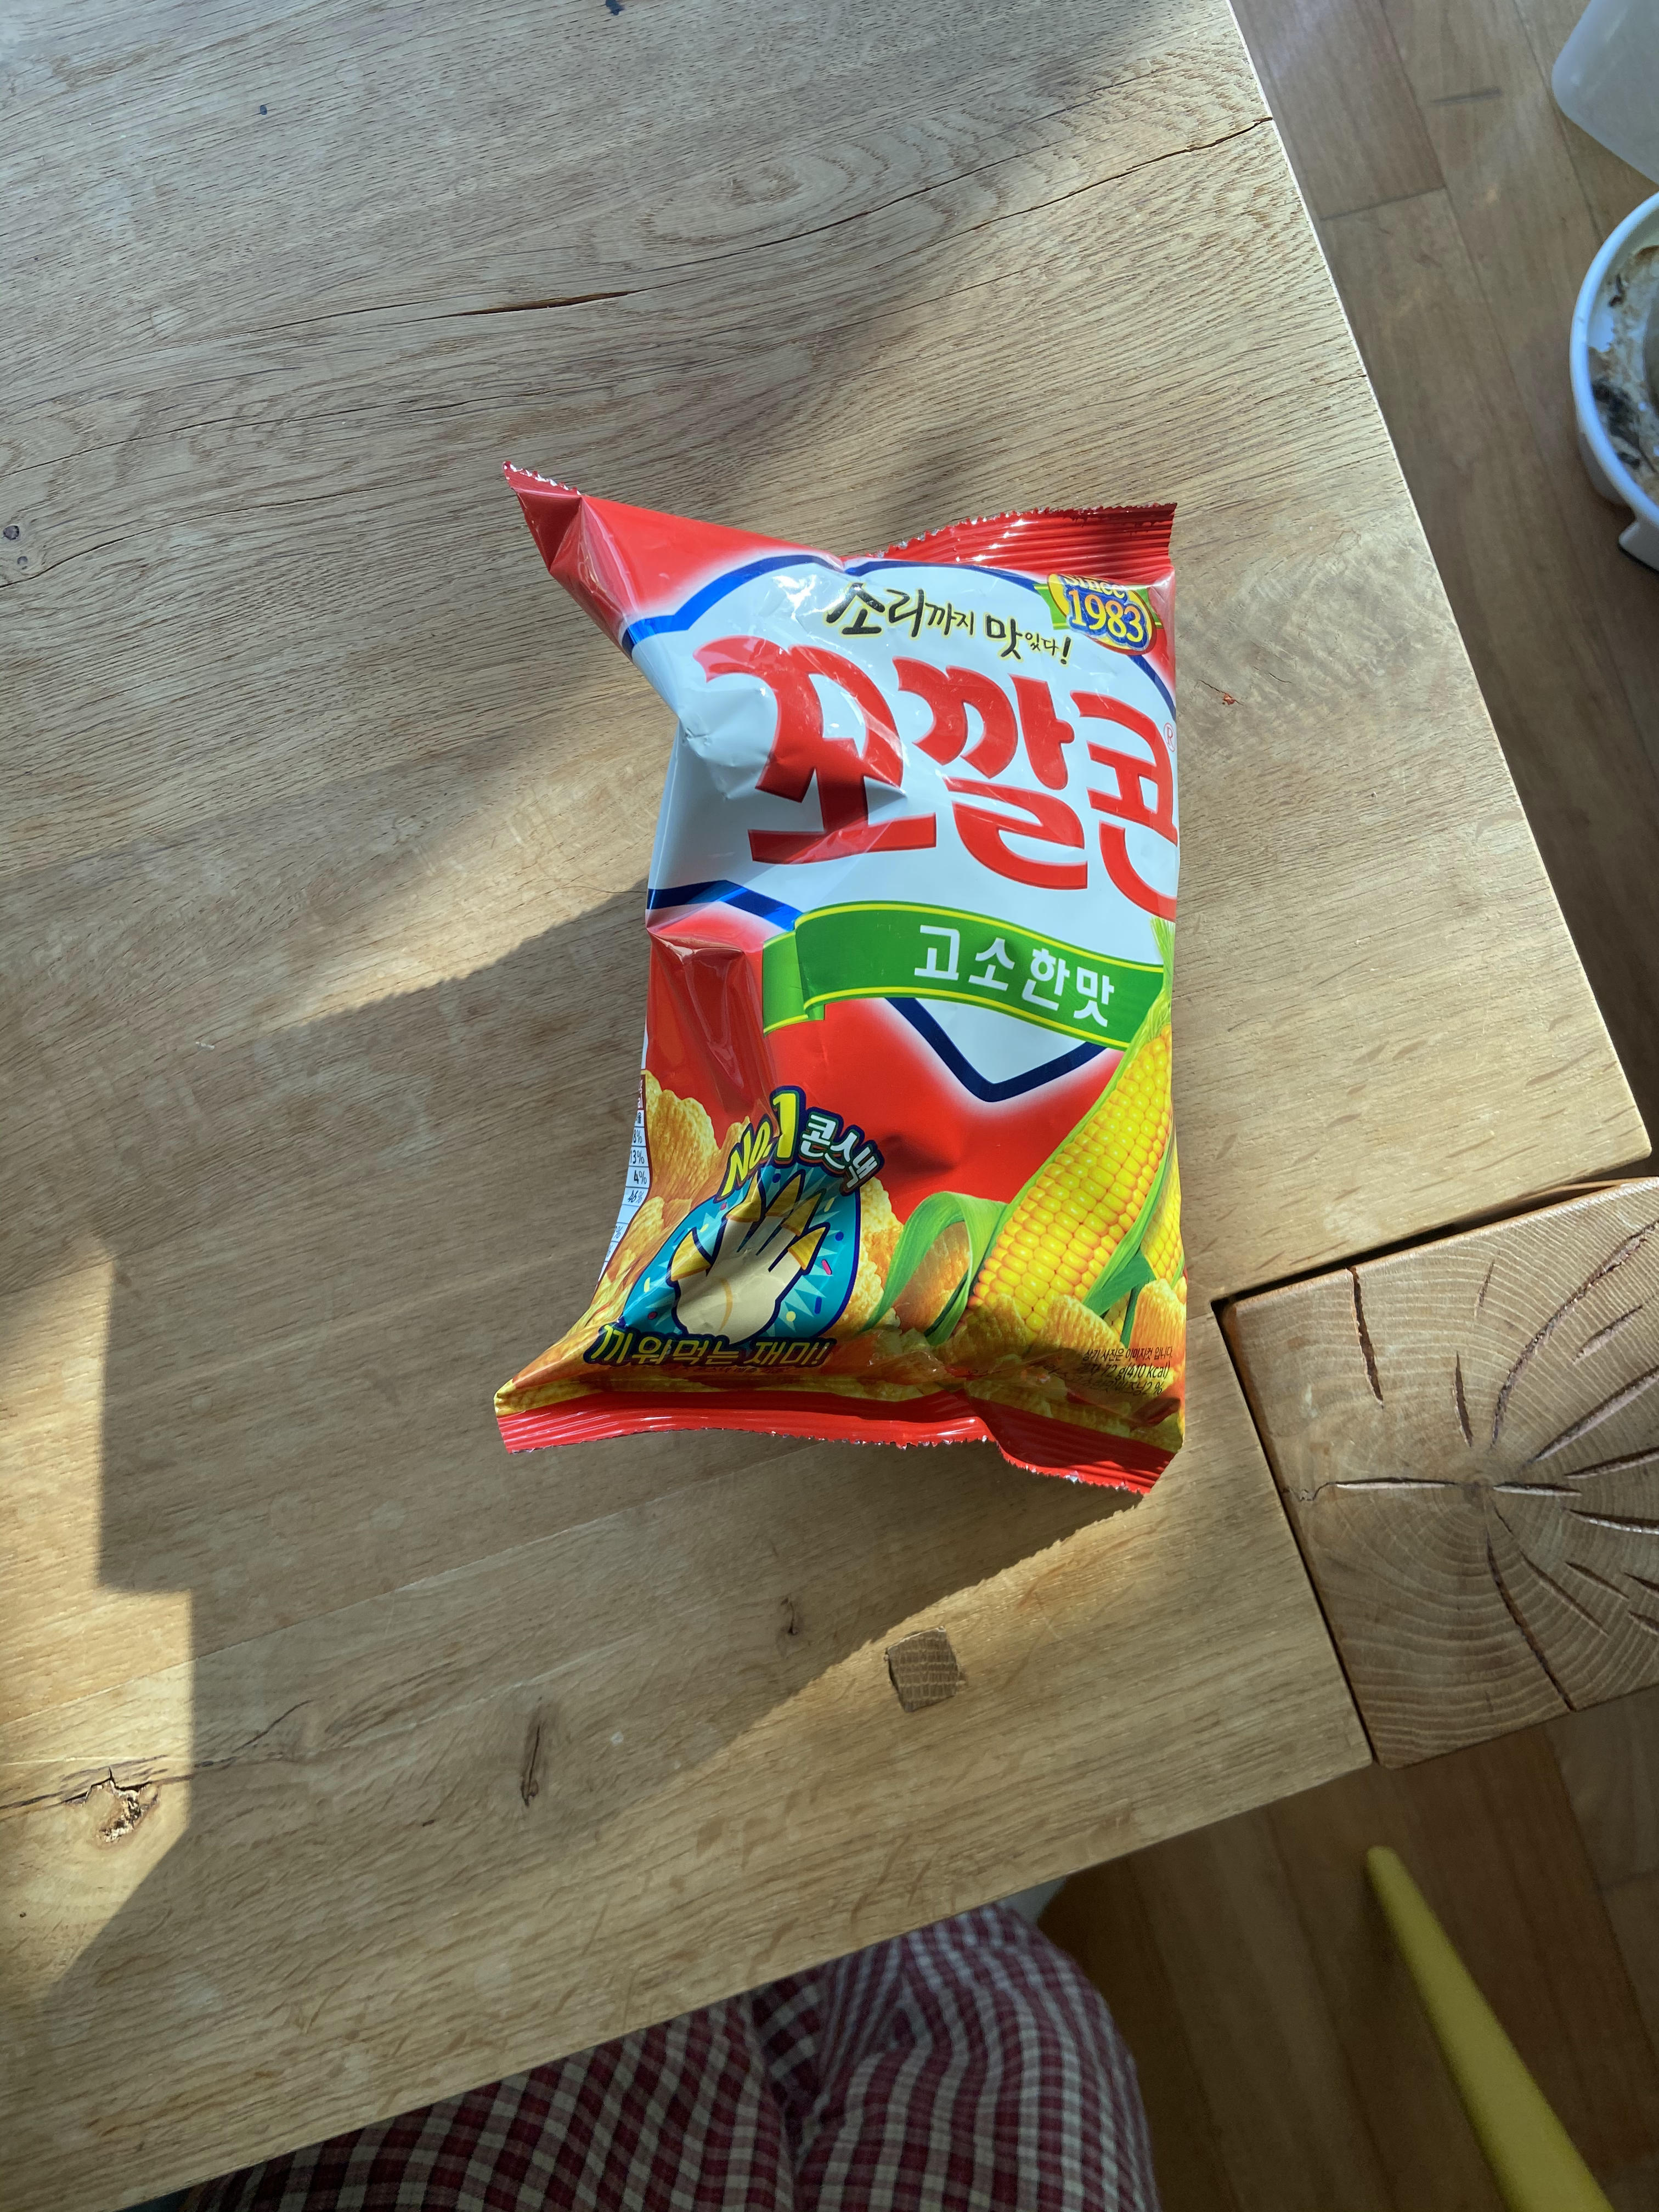ggoggalcon: (481, 451, 1216, 1547)
